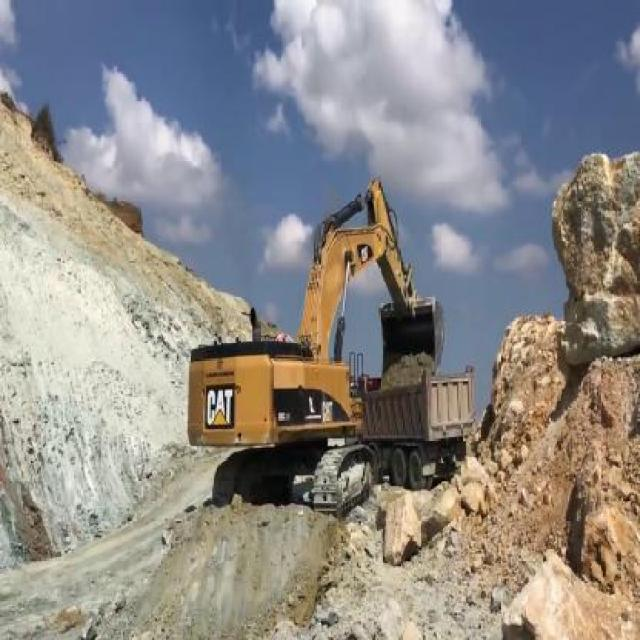dump_truck: (371, 368, 475, 487)
excavator: (183, 170, 449, 515)
